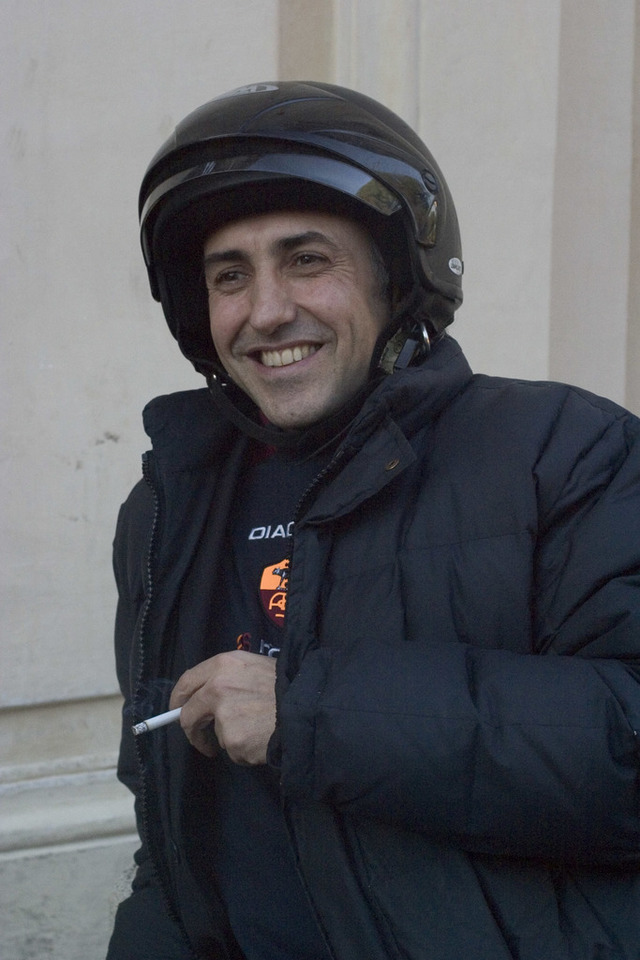helmet: (106, 97, 478, 331)
